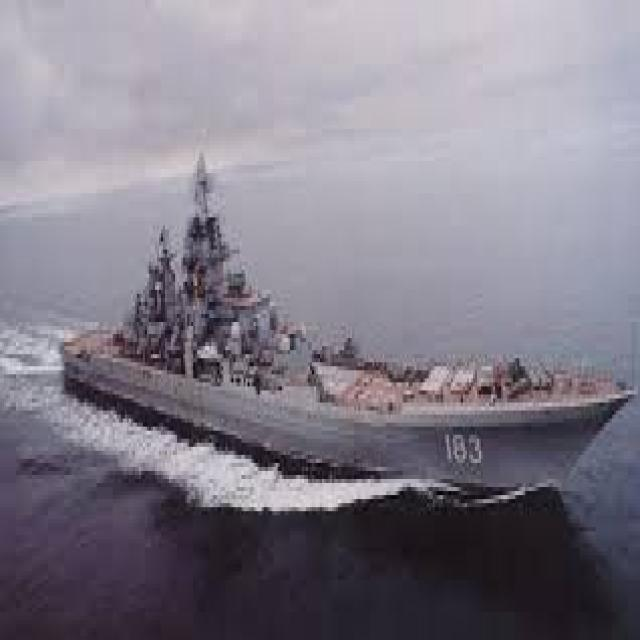navalvessels: (50, 164, 630, 511)
